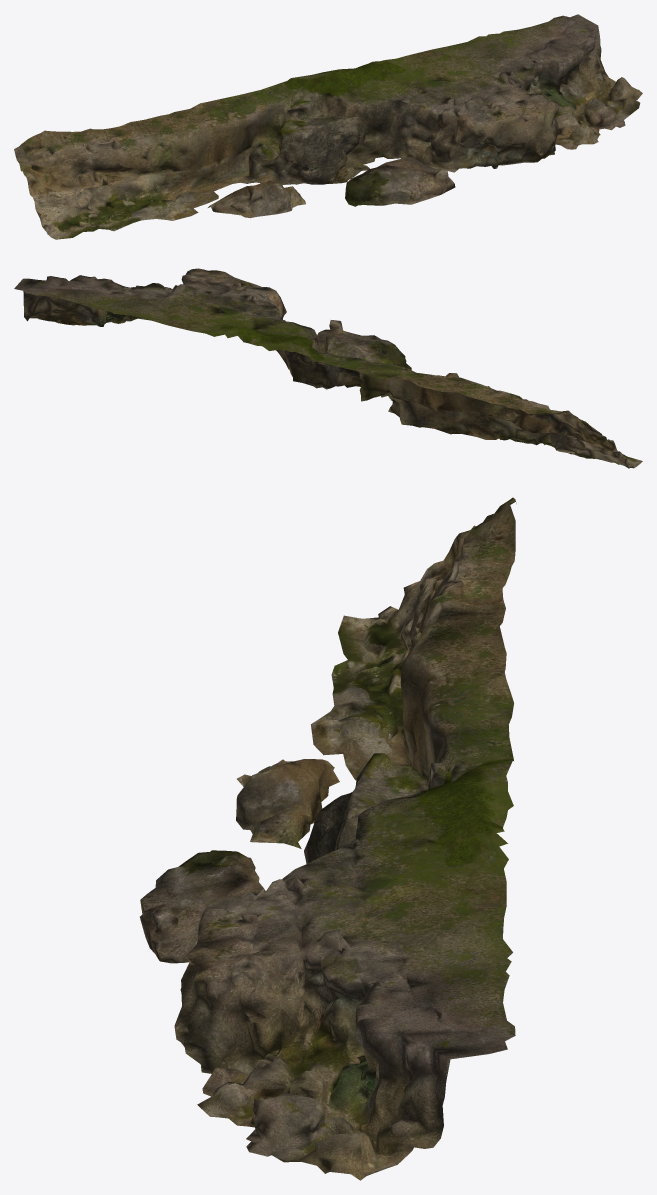
Rendered from cliff04.glb.
3 views of the same model, one above another, from view 1: azimuth 30°, elevation 25°; view 2: azimuth 150°, elevation 25°; view 3: azimuth 270°, elevation 25° (orthographic). The views are drawn at different scales.
Parts seen in each view (by area): view 1: coastal_cliff_04; view 2: coastal_cliff_04; view 3: coastal_cliff_04.
Boxes of the visible parts, x1,y1,x2,y2 form: coastal_cliff_04: (14,14,642,239); coastal_cliff_04: (14,268,642,468); coastal_cliff_04: (140,497,516,1180).
Bounding box in the file's own units: 86.77 × 10.96 × 24.13.
1 material, 1 textured.
